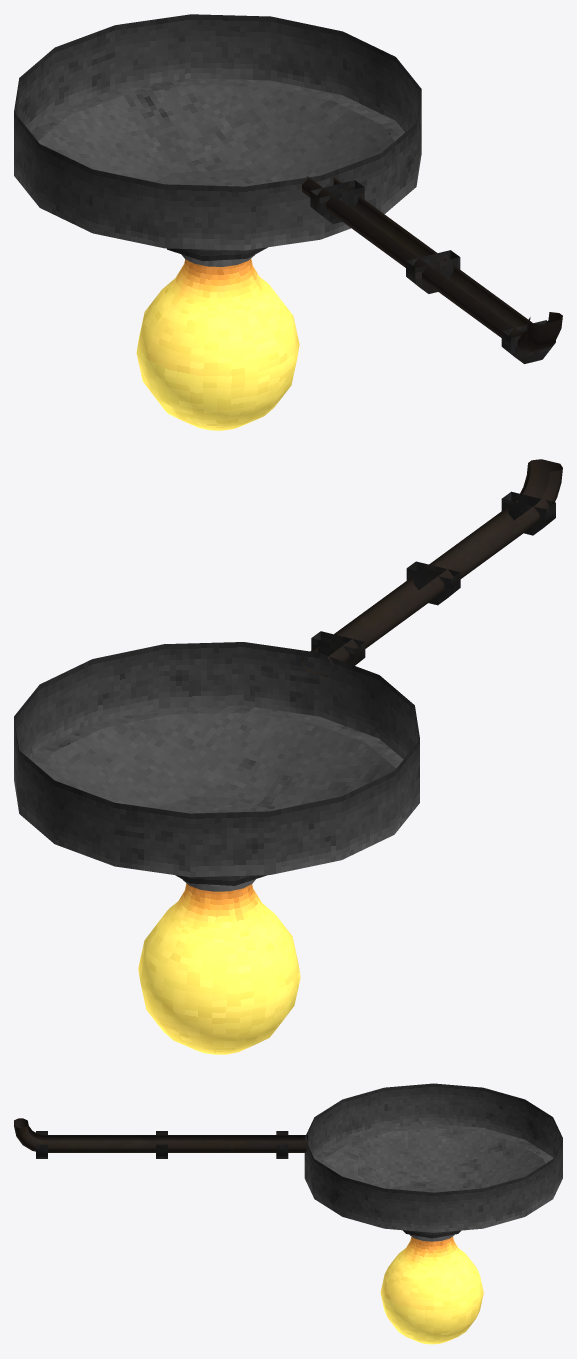
Rendered from ceiling_lamp_mp_1_on.glb.
3 views of the same model, one above another, from view 1: azimuth 30°, elevation 25°; view 2: azimuth 150°, elevation 25°; view 3: azimuth 270°, elevation 25° (orthographic). The views are drawn at different scales.
Parts seen in each view (by area): view 1: ceiling_lamp_mp_1_on; view 2: ceiling_lamp_mp_1_on; view 3: ceiling_lamp_mp_1_on.
Boxes of the visible parts, x1=… form: ceiling_lamp_mp_1_on: x1=14, y1=14, x2=562, y2=430; ceiling_lamp_mp_1_on: x1=14, y1=459, x2=562, y2=1054; ceiling_lamp_mp_1_on: x1=14, y1=1083, x2=562, y2=1344.
Bounding box in the file's own units: 0.215 × 0.1988 × 0.4568.
4 materials, 4 textured.
